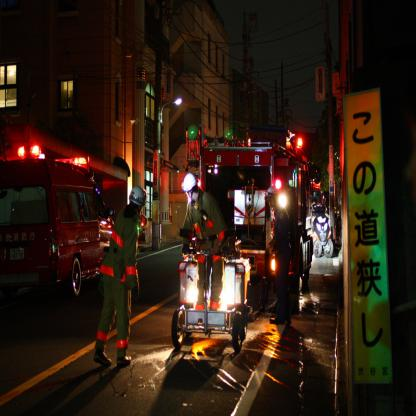Ambulance: (0, 141, 118, 304)
Car: (5, 153, 113, 313)
